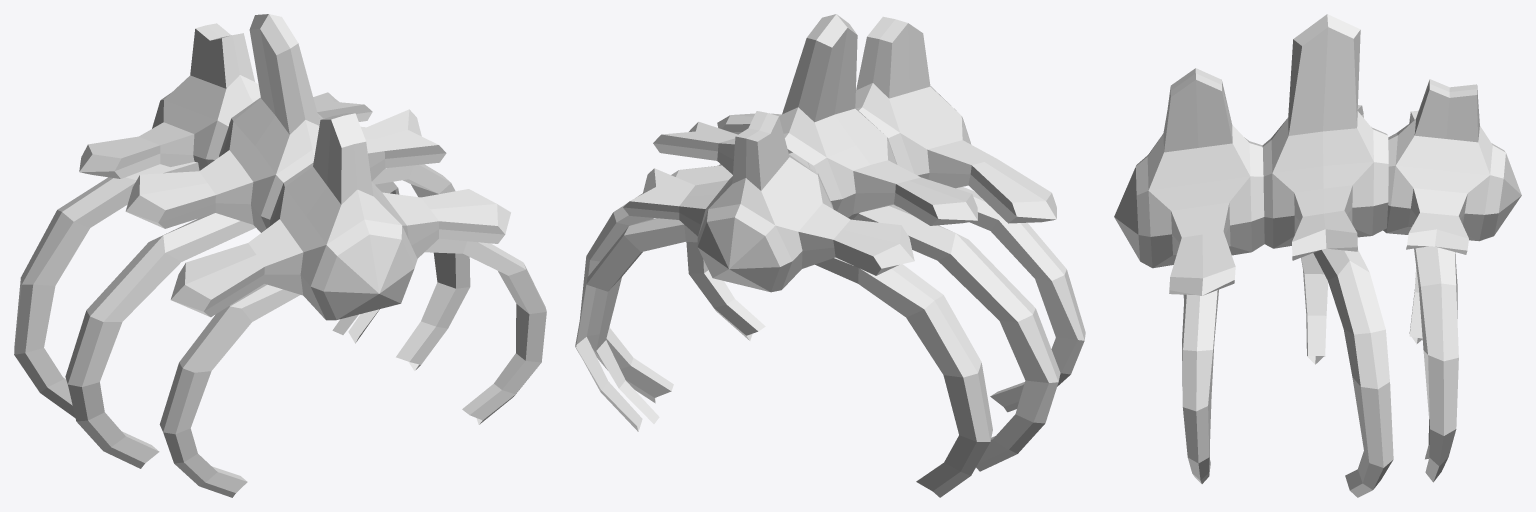
Rendered from Drg_Bone_04.FBX.
3 views of the same model, side by side, from view 1: azimuth 30°, elevation 25°; view 2: azimuth 150°, elevation 25°; view 3: azimuth 270°, elevation 25° (orthographic). The views are drawn at different scales.
Visible parts, largest first — view 1: Drg_Bone_04; view 2: Drg_Bone_04; view 3: Drg_Bone_04.
Boxes of the visible parts, x1=… form: Drg_Bone_04: x1=14, y1=14, x2=546, y2=497; Drg_Bone_04: x1=575, y1=14, x2=1085, y2=497; Drg_Bone_04: x1=1114, y1=14, x2=1521, y2=497.
Bounding box in the file's own units: 8.28 × 7.66 × 6.8.
